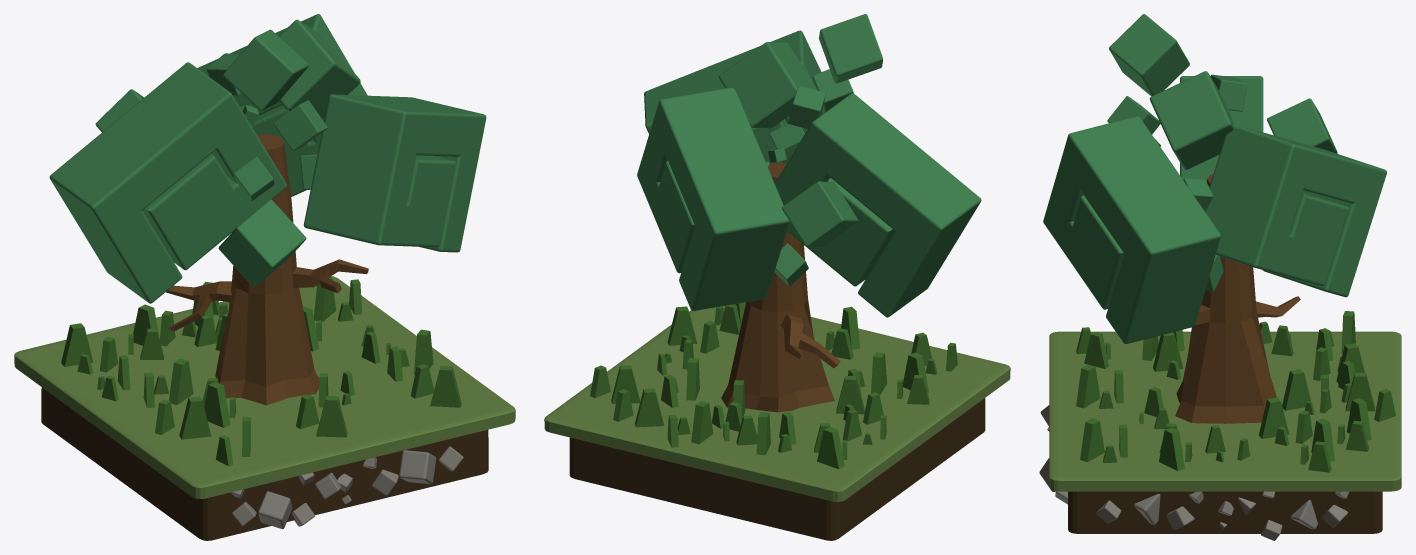
The model's file is cartoon_tree.glb.
3 views of the same model, side by side, from view 1: azimuth 30°, elevation 25°; view 2: azimuth 150°, elevation 25°; view 3: azimuth 270°, elevation 25° (orthographic). The views are drawn at different scales.
Visible parts, largest first — view 1: Cube.016, Cube, Cube.002, Circle, Cube.003, Cube.006, Cube.012, Cube.001, Cube.004, Cube.030, Cube.010, Cube.053 (+13 smaller); view 2: Cube.016, Cube.001, Cube, Circle, Cube.006, Cube.002, Cube.005, Cube.012, Cube.015, Cube.004, Cube.011, Cube.065 (+9 smaller); view 3: Cube.016, Cube.002, Cube.001, Circle, Cube.006, Cube.012, Cube.005, Cube, Cube.015, Cube.074, Cube.044, Cube.004 (+19 smaller).
Part boxes in pixels (x1,y1,x2,y2): Cube.016: (14,276,515,540); Cube: (49,62,287,303); Cube.002: (303,94,486,252); Circle: (166,134,368,405); Cube.003: (218,199,306,286); Cube.006: (279,19,360,119); Cube.012: (223,29,308,110); Cube.001: (197,14,367,196); Cube.004: (273,100,327,151); Cube.030: (399,450,436,484); Cube.010: (233,157,274,201); Cube.053: (179,396,211,439); Cube.016: (544,305,1010,540); Cube.001: (637,87,789,310); Cube: (774,93,981,317); Circle: (721,162,840,412); Cube.006: (719,42,817,128); Cube.002: (644,30,824,163); Cube.005: (782,181,858,247); Cube.012: (819,14,883,83); Cube.015: (788,85,825,128); Cube.004: (812,69,853,112); Cube.011: (774,243,808,286); Cube.065: (817,427,844,469); Cube.016: (1049,331,1401,533); Cube.002: (1043,116,1220,343); Cube.001: (1205,124,1386,297); Circle: (1175,174,1300,423); Cube.006: (1149,71,1233,169); Cube.012: (1109,14,1189,96); Cube.005: (1267,98,1337,153); Cube: (1180,76,1263,181); Cube.015: (1210,74,1247,111); Cube.074: (1282,369,1310,410); Cube.044: (1159,427,1184,470); Cube.004: (1107,96,1160,134).
Bounding box in the file's own units: 8.33 × 9.69 × 7.29.
